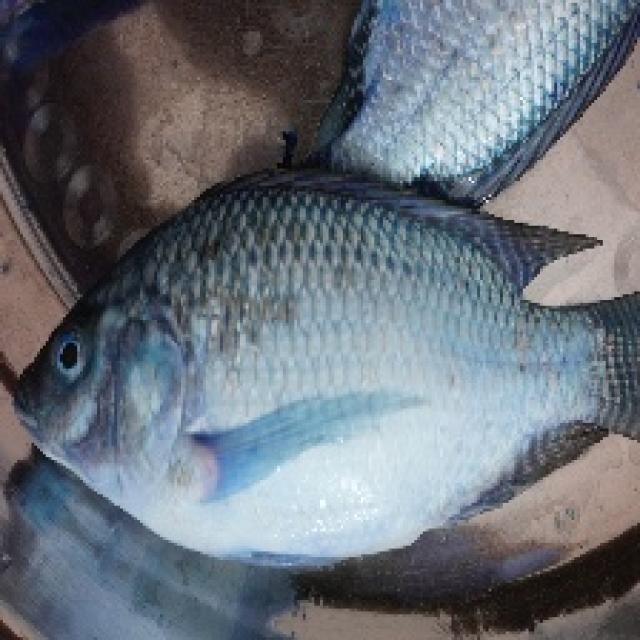Fresh: (18, 203, 502, 546)
